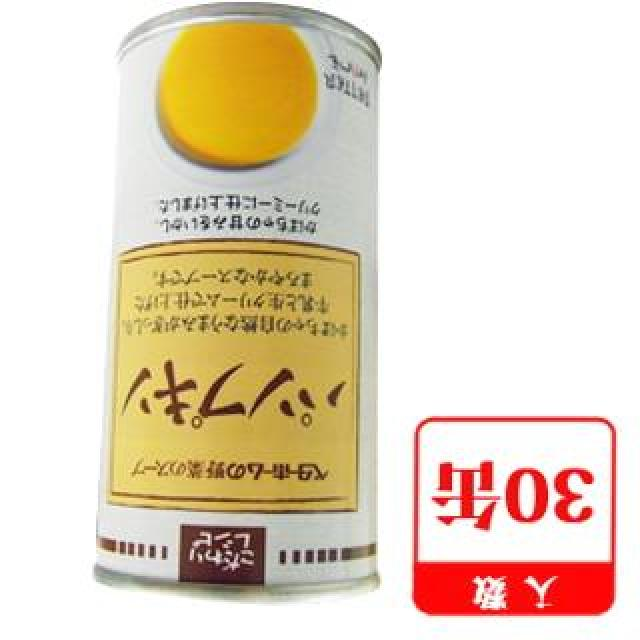Can: (85, 10, 381, 620)
